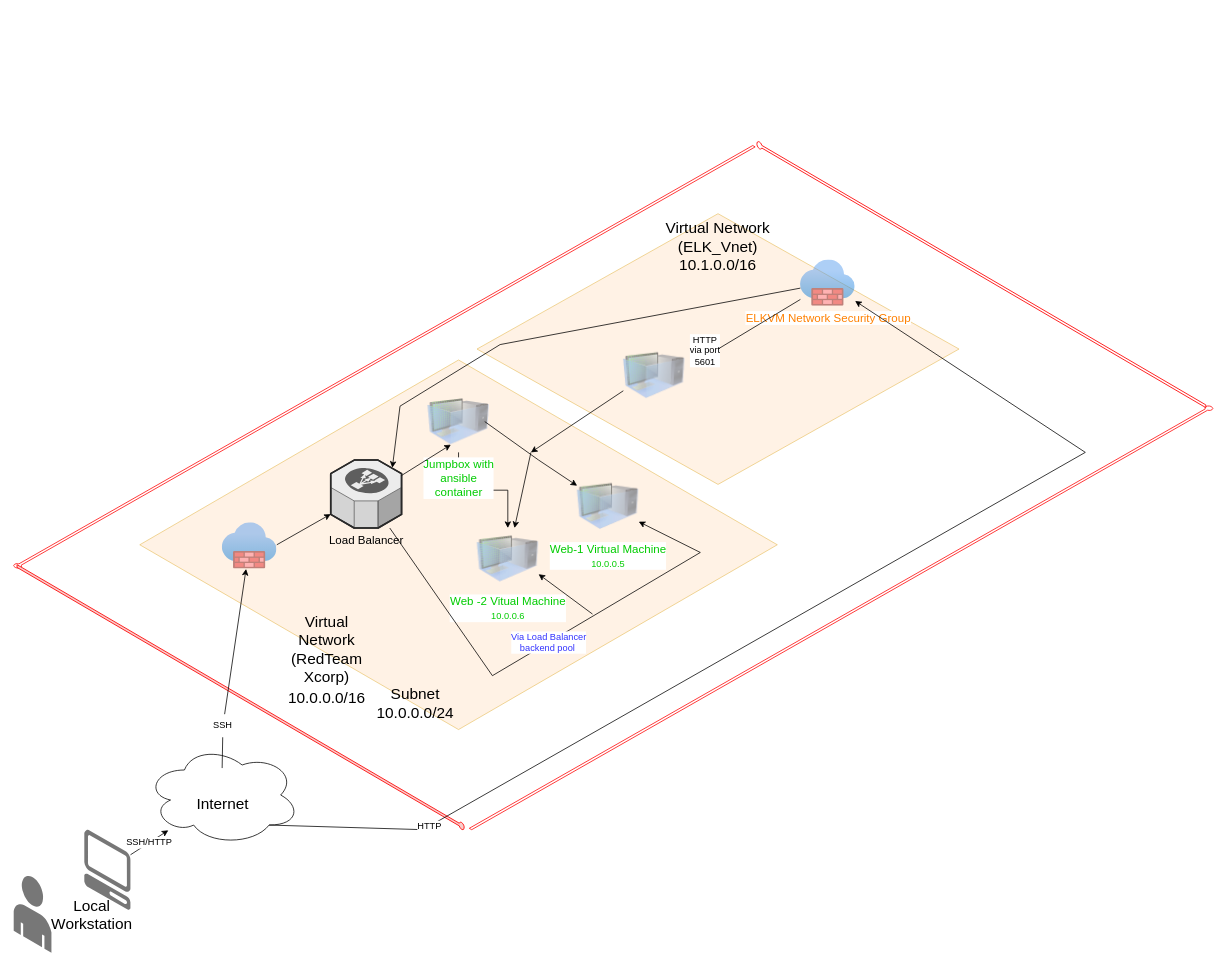
Image size: 1227x972. Some labels were removed from this diagram. Each missing label, with the centre of its shape:
Azure Resource Group (Red Team): (x=384, y=356)
ELKVM 10.1.0.4: (x=654, y=375)
RedTeam Network Security Group: (x=249, y=545)
